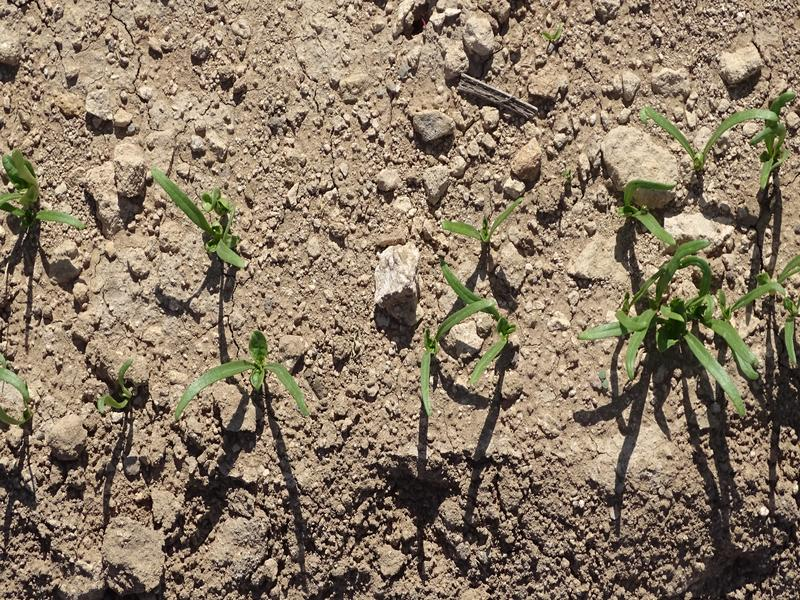Espinaca: (598, 197, 800, 414), (420, 268, 514, 411), (645, 103, 792, 185), (174, 334, 312, 418), (146, 168, 251, 272), (1, 145, 78, 228), (435, 196, 524, 247), (101, 360, 135, 411)
